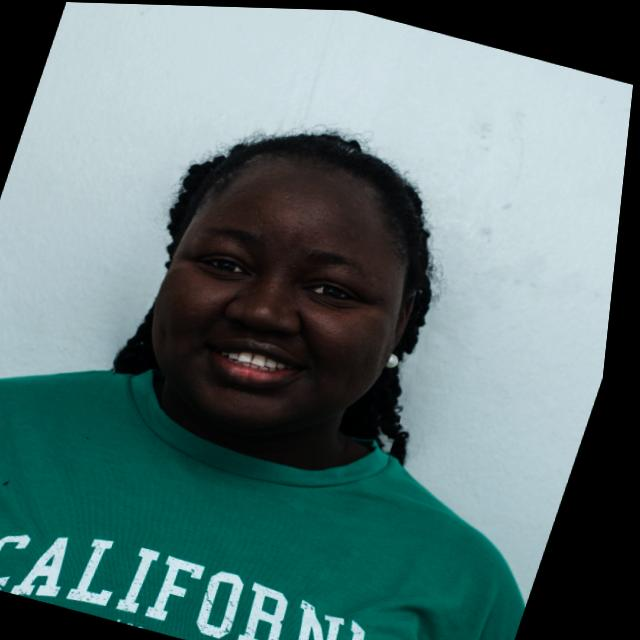happy: (99, 87, 494, 485)
